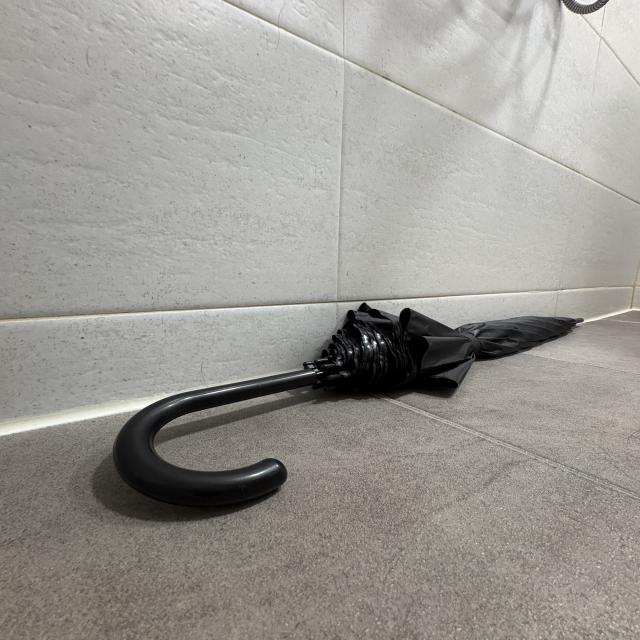umbrella: (118, 303, 580, 507)
